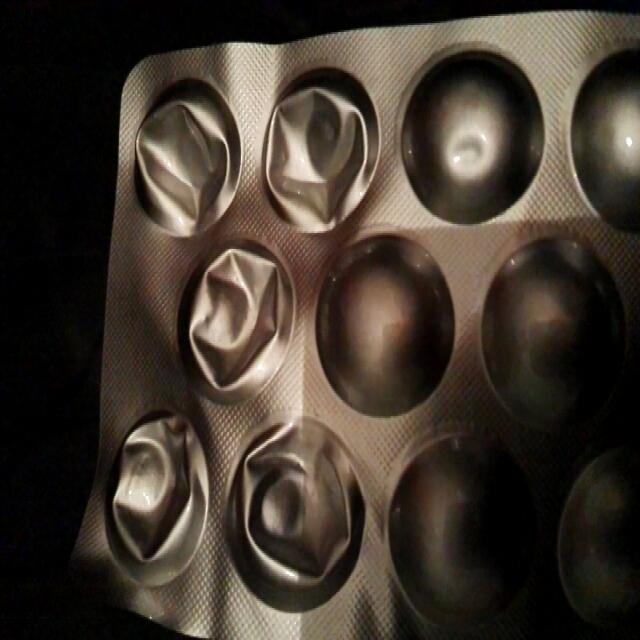Empty: (226, 409, 371, 620), (254, 61, 383, 234), (103, 414, 210, 594), (178, 238, 297, 396), (129, 76, 242, 235)
Pill: (381, 418, 538, 633), (471, 244, 640, 432), (392, 39, 545, 226), (312, 236, 456, 418), (556, 439, 640, 640), (561, 48, 640, 229)
